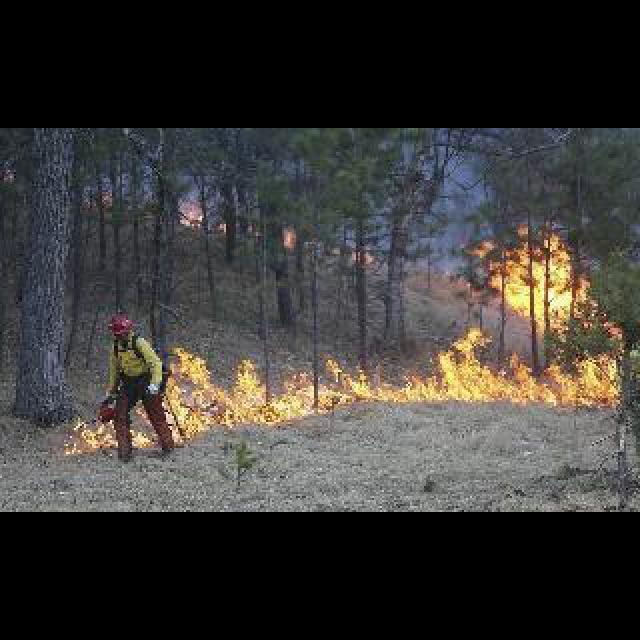Fire: (438, 212, 630, 406), (175, 326, 432, 458), (59, 412, 117, 464), (180, 204, 230, 230), (352, 248, 374, 268), (280, 226, 298, 250)
